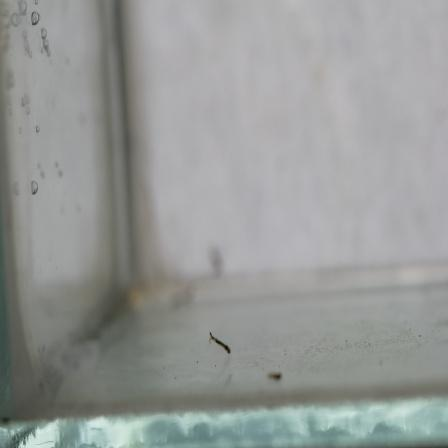Jentik-Nyamuk: (207, 329, 234, 356)
